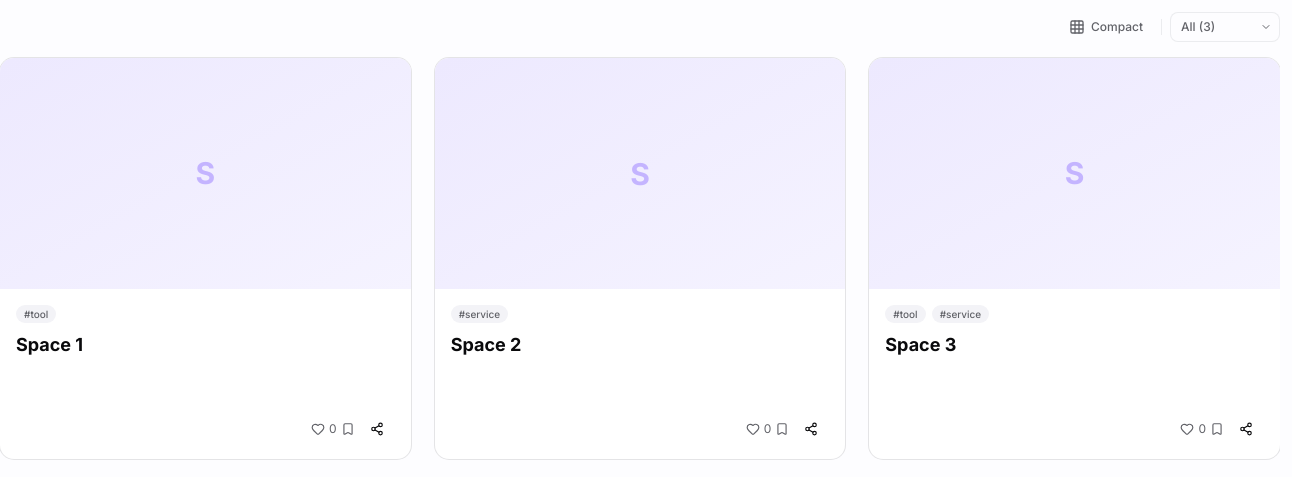
Test case: SpaceGrid › compact toggle › toggles back to comfortable view
Click the button titled "Compact view" at (1106, 27), box [1059, 13, 1153, 41]
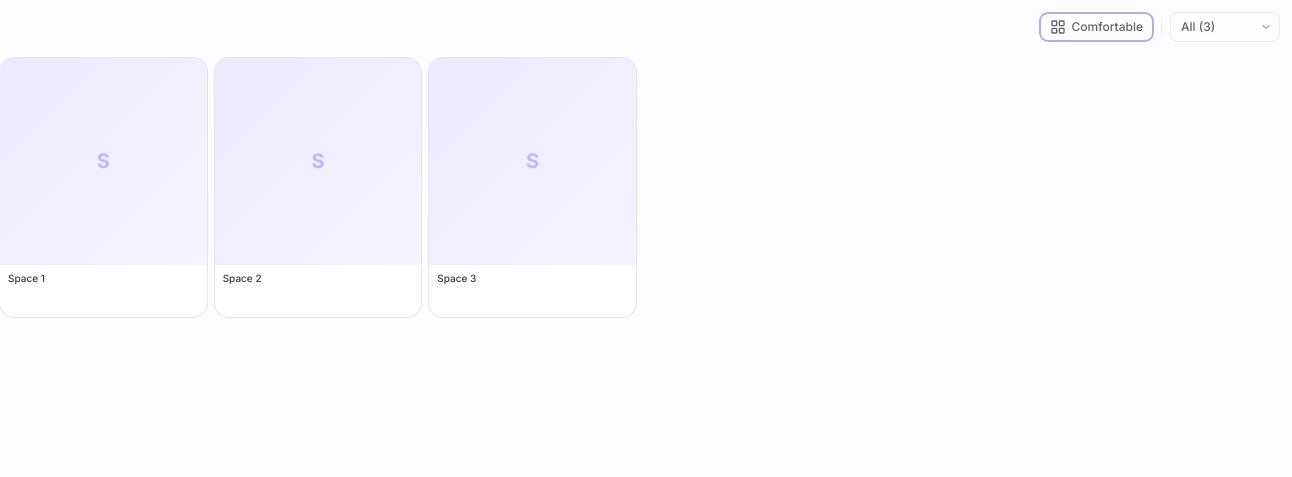
Click the button titled "Comfortable view" at (1096, 27), box [1040, 13, 1153, 41]
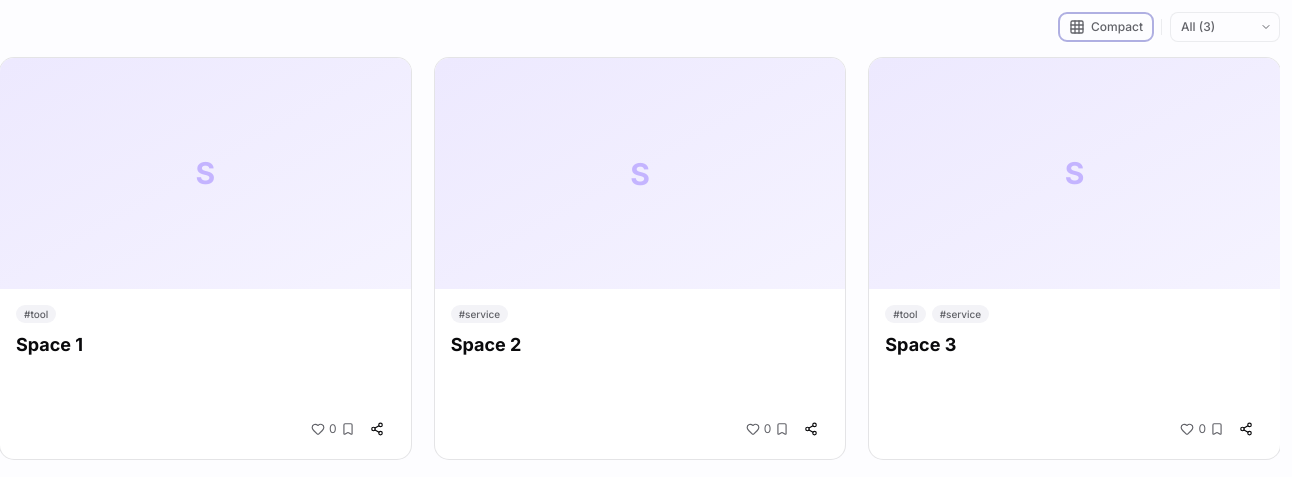
expect the button titled "Compact view" is shown: met, box [1059, 13, 1153, 41]
